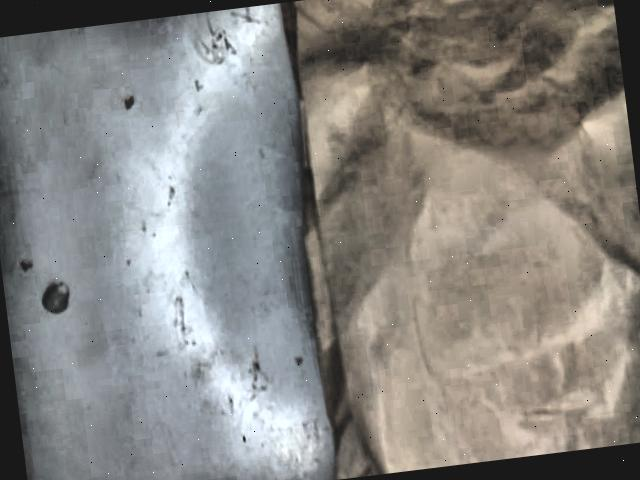Paper: (281, 0, 640, 474)
